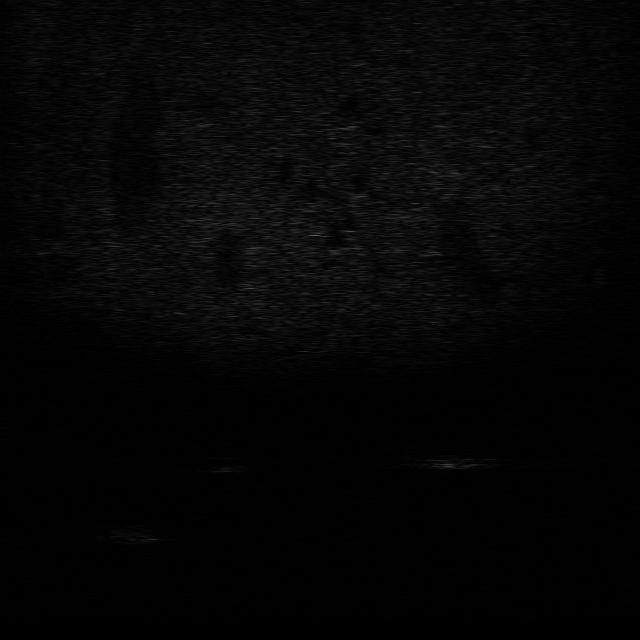ball: (198, 453, 252, 477)
circle cage: (91, 520, 165, 547)
human body: (382, 440, 528, 473)
